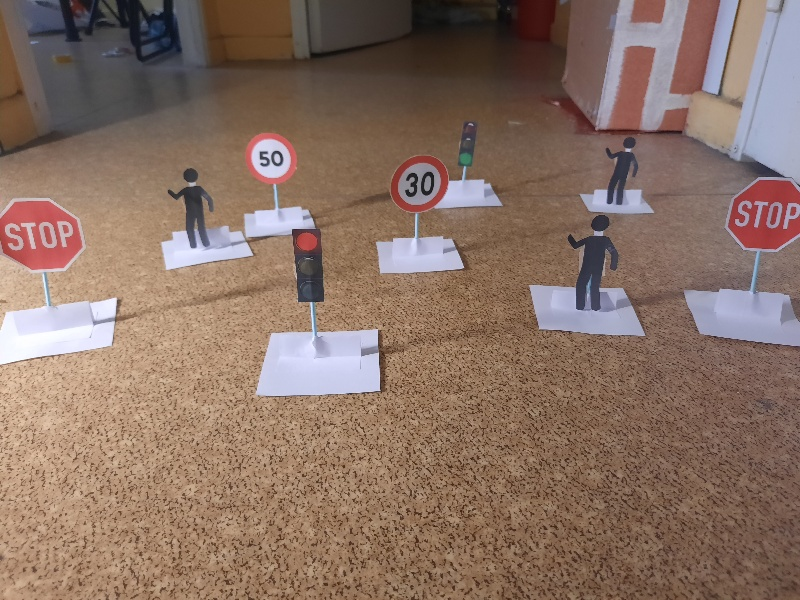Green: (456, 121, 475, 169)
Limit 30: (392, 156, 446, 209)
Limit 50: (247, 135, 293, 183)
Person: (569, 217, 617, 307), (167, 168, 215, 247), (605, 135, 639, 208)
Red: (292, 229, 324, 301)
Stop: (1, 199, 83, 272), (726, 176, 800, 251)
